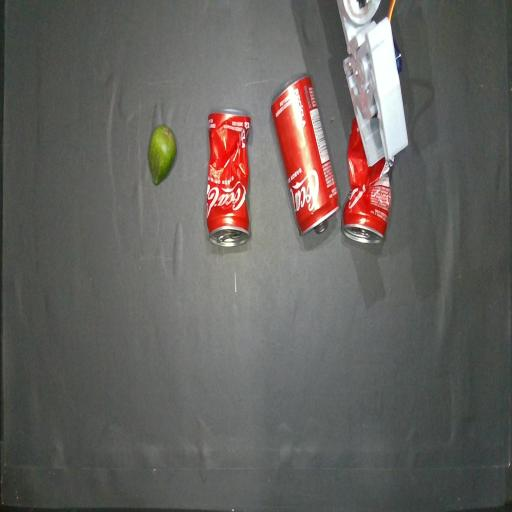higo: (148, 125, 176, 185)
lata: (271, 76, 338, 234)
lata_defectuoso: (342, 120, 391, 243), (206, 110, 250, 246)
